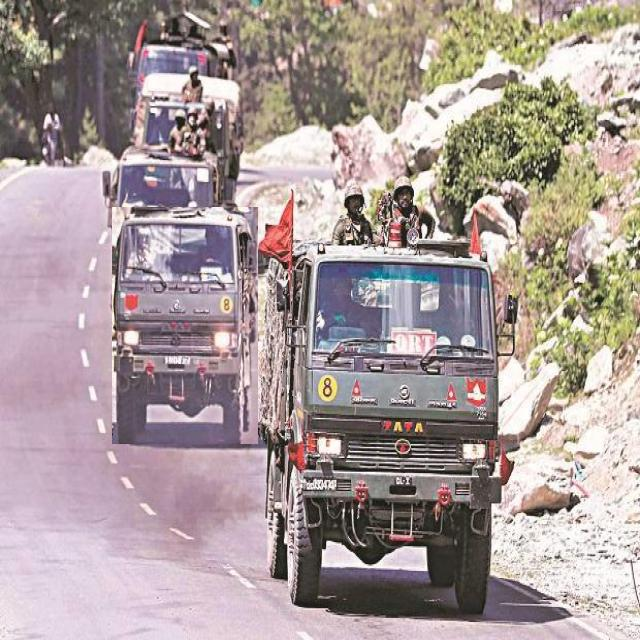truck: (261, 241, 501, 612), (112, 207, 258, 444)
